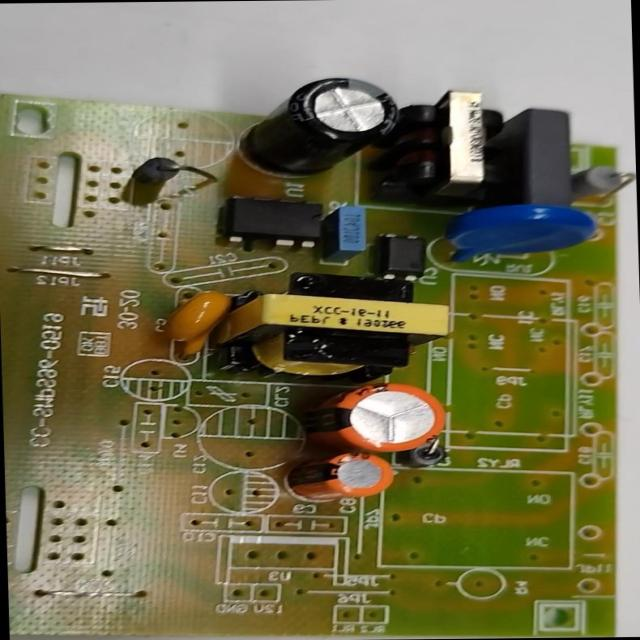Cap1: (314, 385, 443, 450)
Cap2: (291, 454, 395, 502)
Cap3: (245, 75, 398, 176)
MOSFET: (221, 197, 323, 250)
Mov: (450, 204, 598, 260)
Resistor: (571, 167, 634, 200)
Transformer: (217, 276, 450, 380), (394, 91, 508, 196)
